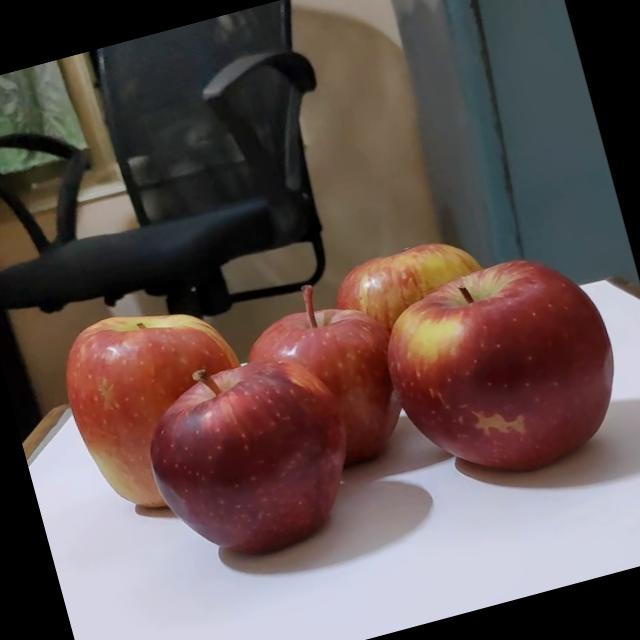apple: (366, 235, 640, 499), (132, 344, 368, 572), (39, 295, 254, 531), (229, 270, 424, 490), (308, 218, 506, 382)
